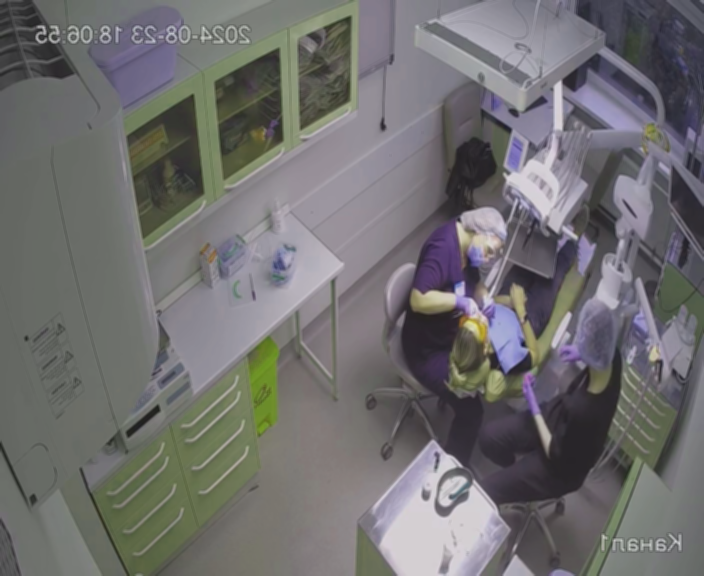Patient: (444, 211, 605, 402)
